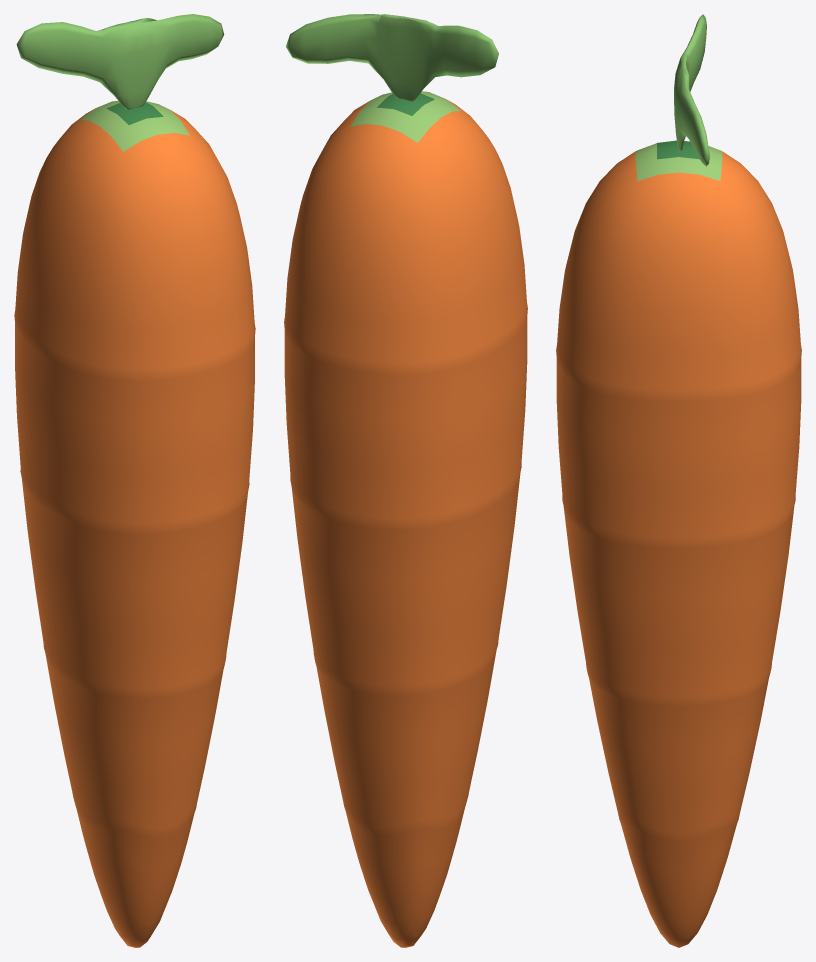
File: wortel step 2.fbx
3 views of the same model, side by side, from view 1: azimuth 30°, elevation 25°; view 2: azimuth 150°, elevation 25°; view 3: azimuth 270°, elevation 25° (orthographic). The views are drawn at different scales.
Visible parts, largest first — view 1: wortel 1, Plane.010; view 2: wortel 1, Plane.010; view 3: wortel 1, Plane.010.
Part boxes in pixels (x1,y1,x2,y2): wortel 1: [14, 101, 255, 947]; Plane.010: [16, 14, 224, 109]; wortel 1: [284, 91, 527, 947]; Plane.010: [286, 14, 498, 101]; wortel 1: [556, 140, 801, 947]; Plane.010: [674, 14, 709, 166].
Size of the model in its own units: 66.9 by 286 by 71.32.
